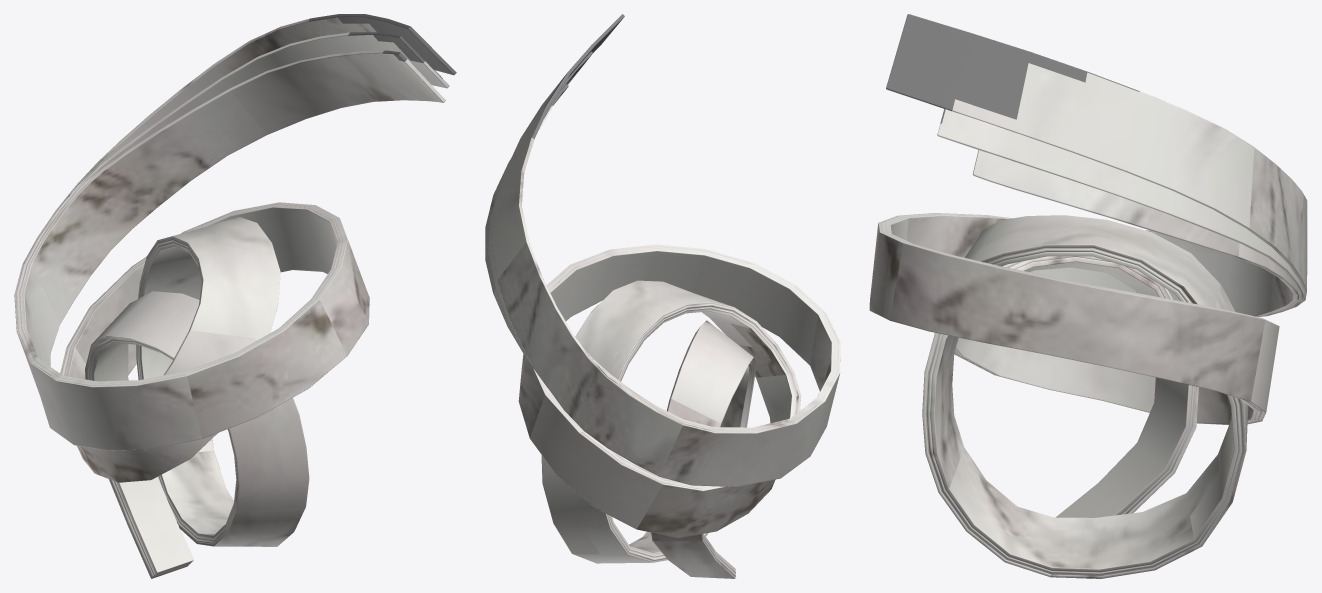
File: statue.obj
The picture shows the model from 3 angles, left to right: view 1: azimuth 30°, elevation 25°; view 2: azimuth 150°, elevation 25°; view 3: azimuth 270°, elevation 25°; orthographic projection. The views are drawn at different scales.
Visible parts, largest first — view 1: dai1:polySurface3; view 2: dai1:polySurface3; view 3: dai1:polySurface3.
Part boxes in pixels (left/top/right/bottom): dai1:polySurface3: left=14, top=14, right=456, bottom=578; dai1:polySurface3: left=485, top=14, right=840, bottom=578; dai1:polySurface3: left=869, top=14, right=1307, bottom=578.
Bounding box in the file's own units: 3.2 × 4.74 × 2.99.
2 materials, 1 textured.
